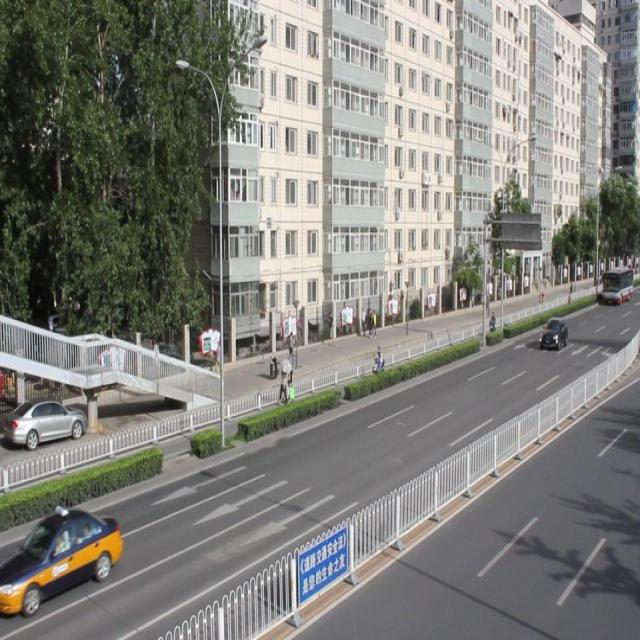car: (1, 506, 123, 608)
